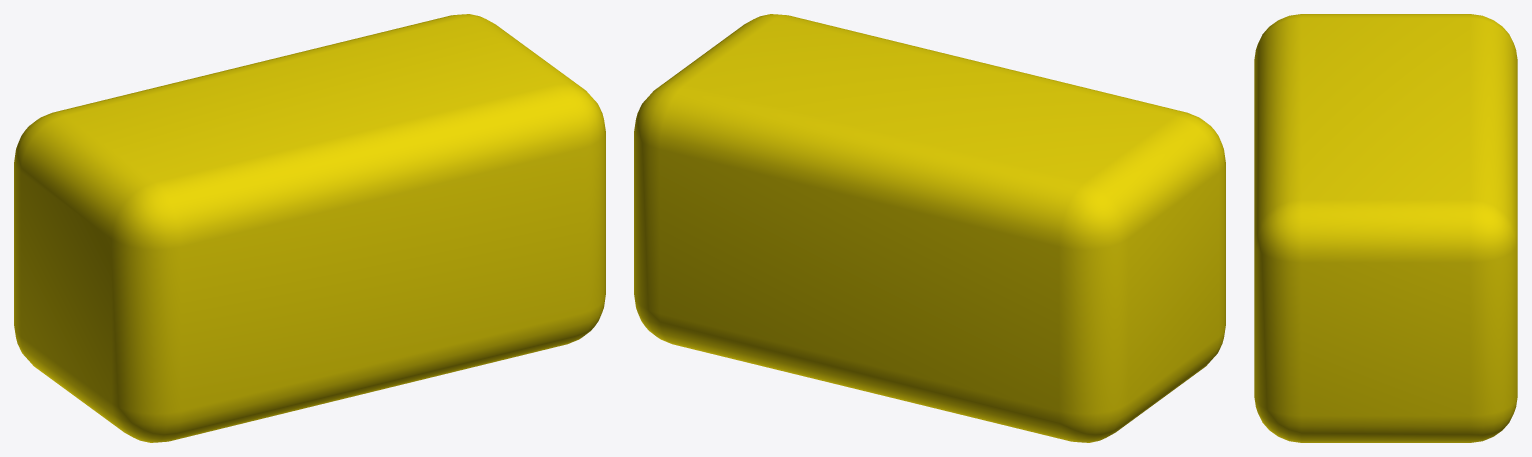
3 renders of one model, left to right at view 1: azimuth 30°, elevation 25°; view 2: azimuth 150°, elevation 25°; view 3: azimuth 270°, elevation 25°, orthographic. The views are drawn at different scales.
Visible parts, largest first — view 1: 2; view 2: 2; view 3: 2.
Part boxes in pixels (x1,y1,x2,y2): 2: (14, 14, 605, 442); 2: (634, 14, 1225, 442); 2: (1254, 14, 1517, 442).
Size of the model in its own units: 199 by 100 by 100.
